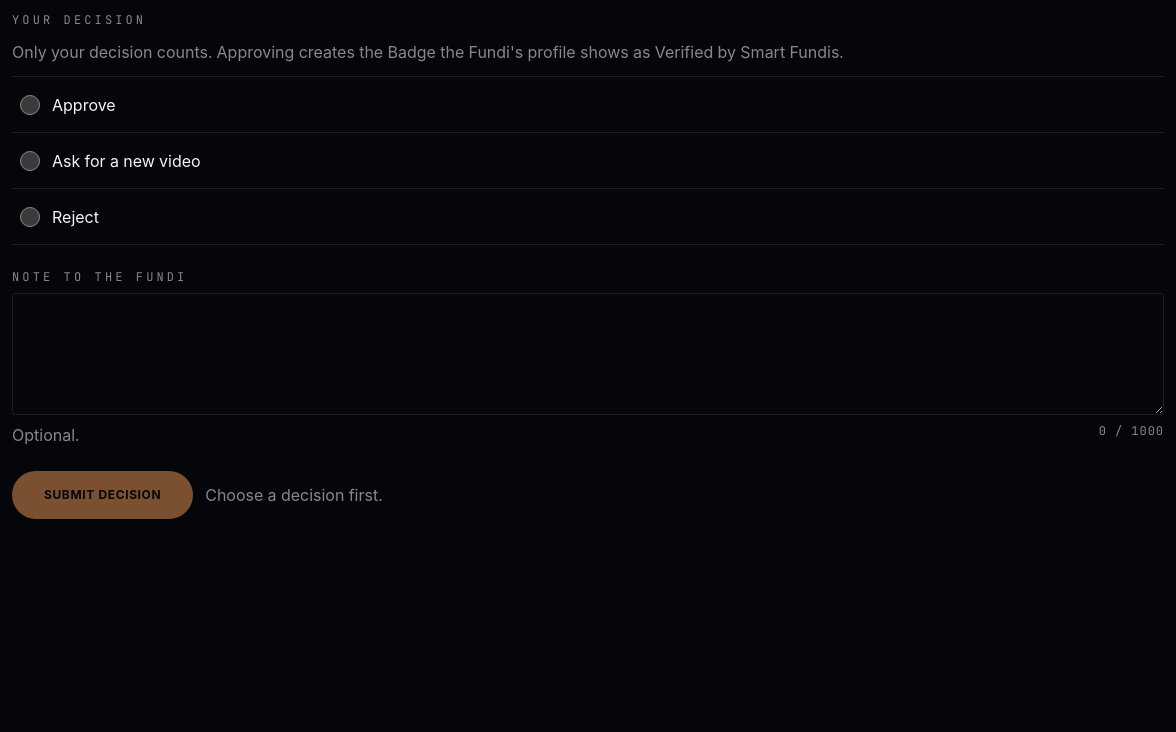
Test: the decision form (US-5.3) › has no decision pre-selected, and keeps submit disabled until one is chosen, saying so in a dim hint
Expected: the submit button is disabled, [12,471,193,519]
Click the radio button labelled "Approve". click: (30, 104)
box: [20,94,40,114]
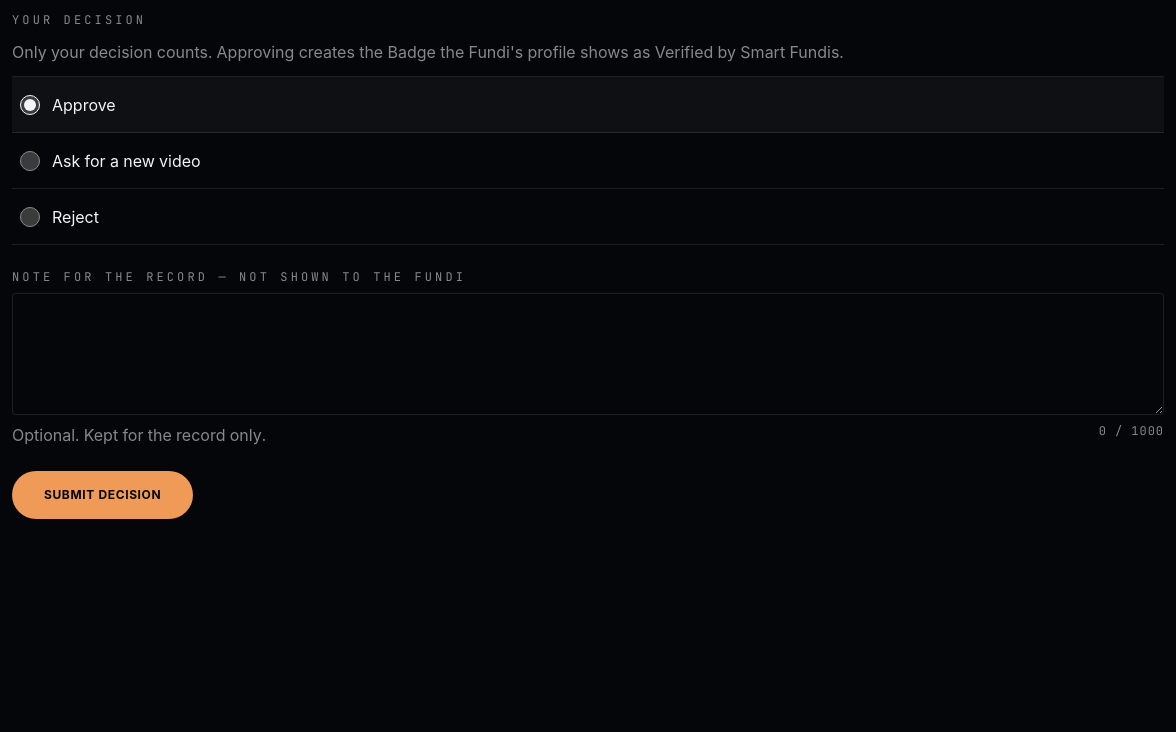
Now the submit button is enabled, box [12,471,193,519]
Now the text "Choose a decision first." is gone
